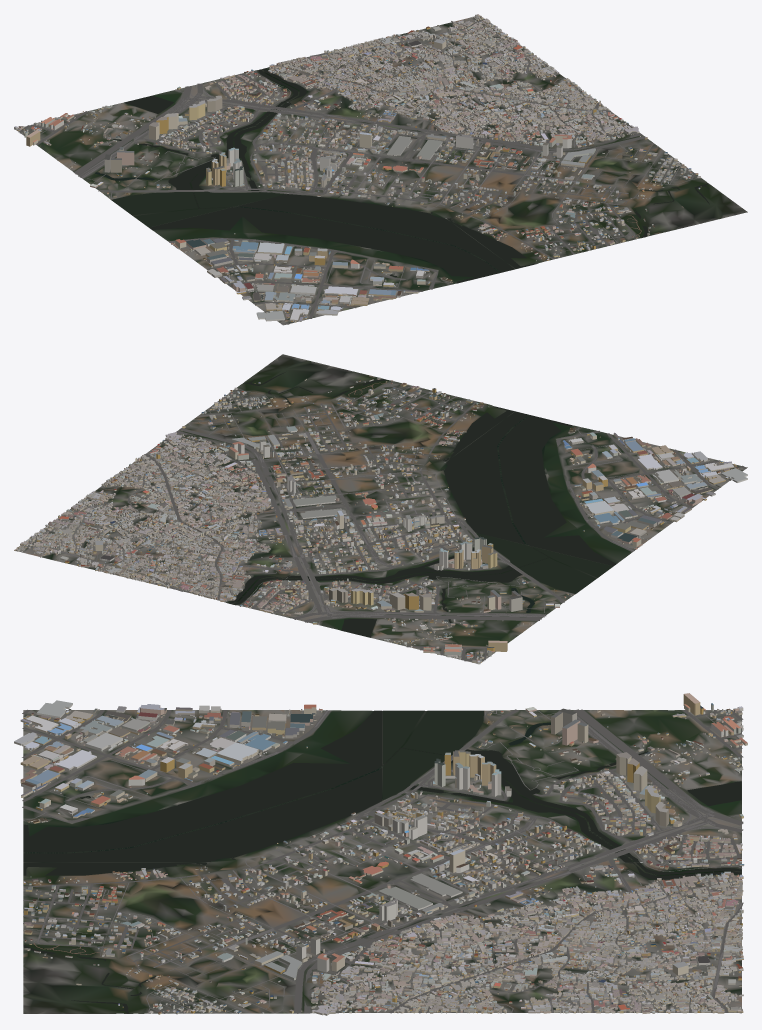
3 renders of one model, top to bottom at view 1: azimuth 30°, elevation 25°; view 2: azimuth 150°, elevation 25°; view 3: azimuth 270°, elevation 25°, orthographic. The views are drawn at different scales.
Visible parts, largest first — view 1: ground, buildings, water, roads; view 2: ground, buildings, water, roads; view 3: ground, buildings, water, roads.
Boxes of the visible parts, left/top/right/bottom form: ground: left=18, top=16, right=747, bottom=325; buildings: left=14, top=14, right=701, bottom=322; water: left=95, top=68, right=709, bottom=283; roads: left=18, top=18, right=700, bottom=324; ground: left=16, top=354, right=747, bottom=663; buildings: left=14, top=377, right=747, bottom=664; water: left=228, top=372, right=615, bottom=637; roads: left=21, top=382, right=746, bottom=661; ground: left=23, top=710, right=741, bottom=1013; buildings: left=14, top=693, right=747, bottom=1015; water: left=23, top=710, right=741, bottom=1013; roads: left=22, top=709, right=743, bottom=1013.
Size of the model in its own units: 2895 by 96.85 by 2860.
